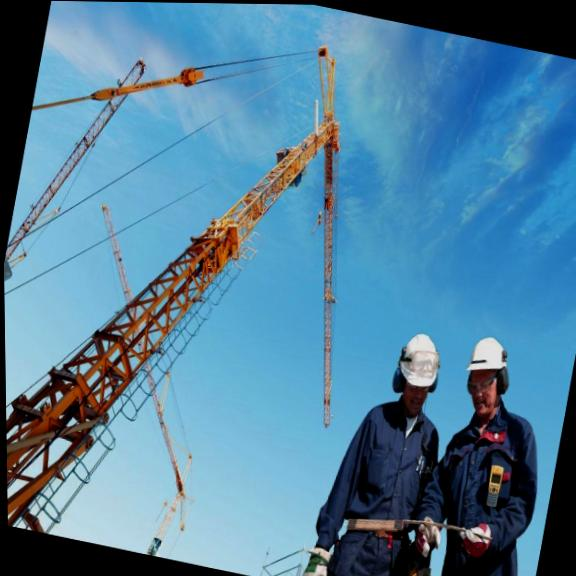no_safety_vest: (423, 397, 543, 575), (323, 396, 445, 569)
